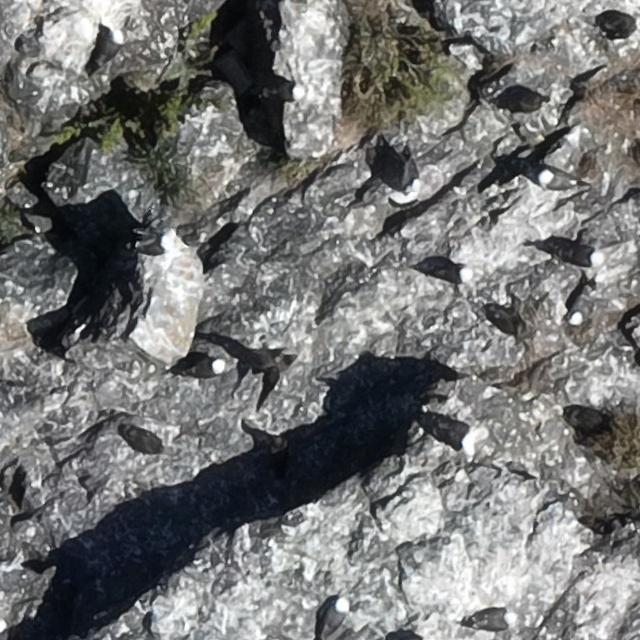umineko: (550, 244, 603, 266), (184, 359, 224, 378), (323, 600, 345, 633), (431, 264, 471, 282), (539, 170, 573, 190), (473, 610, 509, 628), (570, 294, 591, 324)
